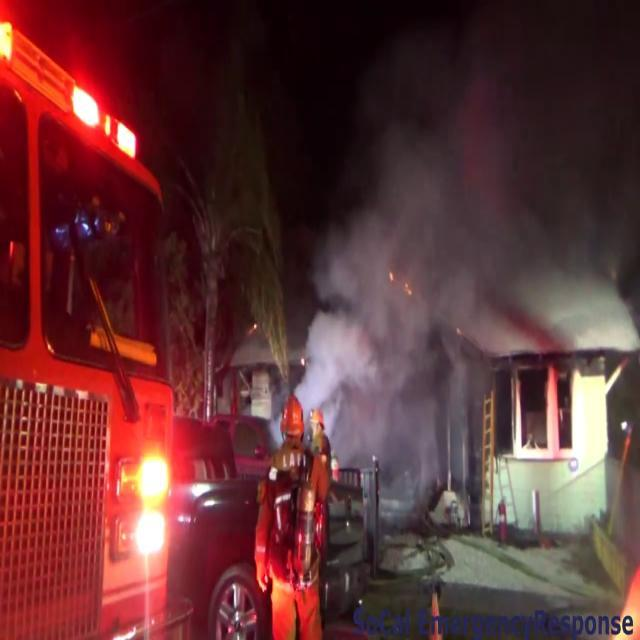Smoke: (296, 11, 508, 452), (392, 0, 636, 351)
